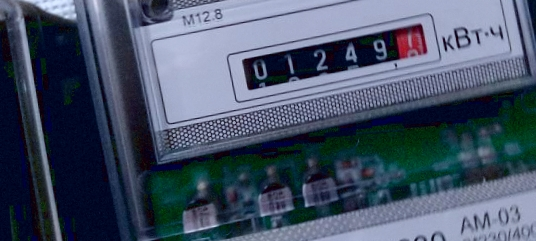0: (248, 53, 269, 80)
1: (280, 50, 297, 76)
2: (309, 45, 331, 72)
4: (341, 36, 361, 65)
7: (400, 24, 417, 49)
9: (370, 34, 390, 60)
screen: (218, 13, 456, 106)
